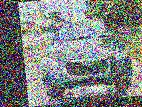car: (37, 14, 135, 102)
